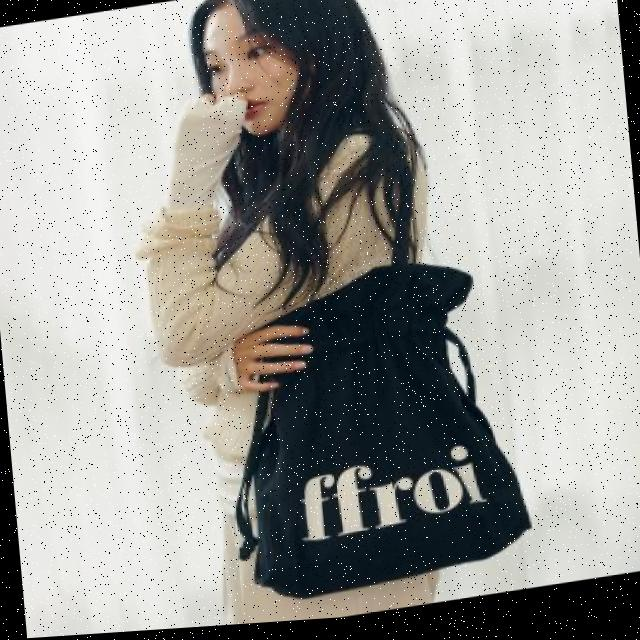ecobag: (195, 123, 550, 619)
